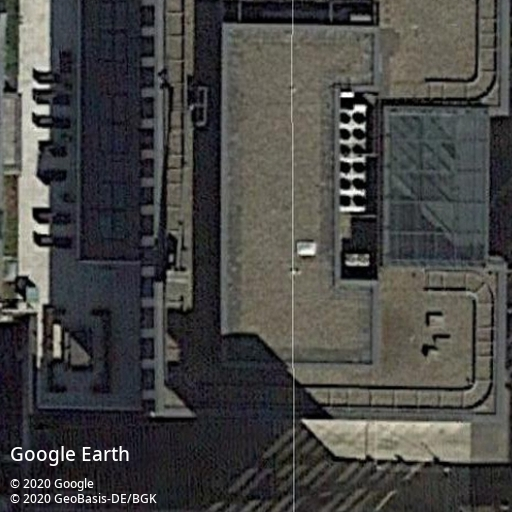Chiller: (335, 103, 369, 214)
